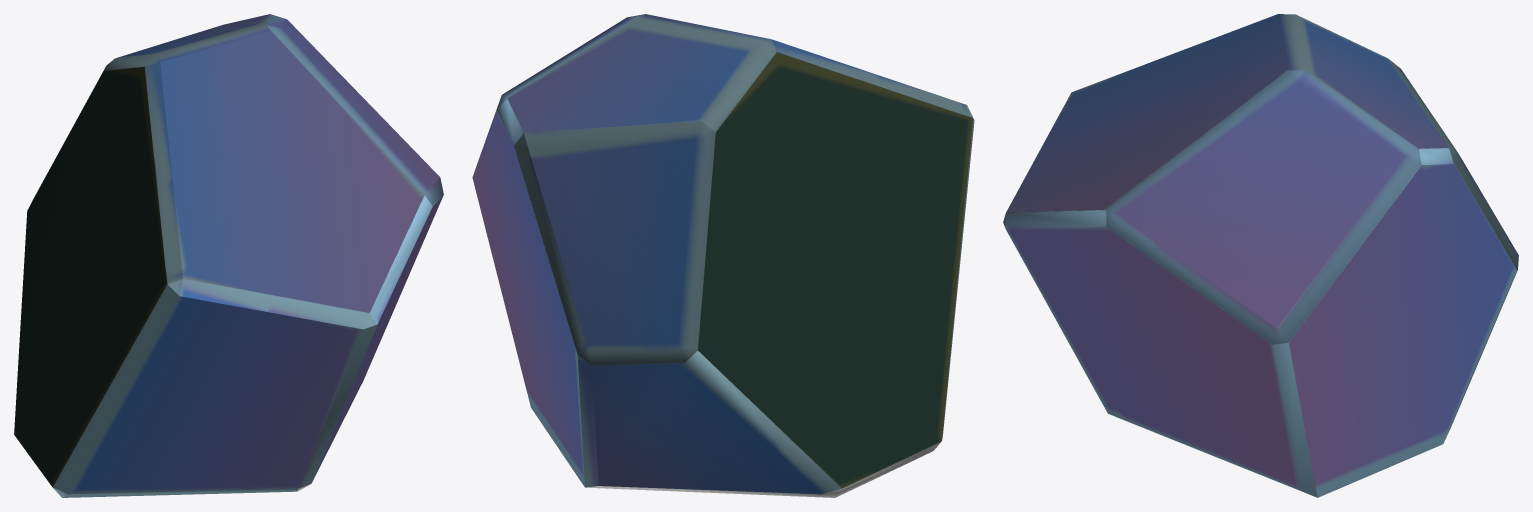
The picture shows the model from 3 angles, left to right: view 1: azimuth 30°, elevation 25°; view 2: azimuth 150°, elevation 25°; view 3: azimuth 270°, elevation 25°; orthographic projection. The views are drawn at different scales.
Parts seen in each view (by area): view 1: Sphere; view 2: Sphere; view 3: Sphere.
Boxes of the visible parts, x1,y1,x2,y2 form: Sphere: (14, 14, 443, 497); Sphere: (472, 14, 974, 497); Sphere: (1003, 14, 1518, 497).
Bounding box in the file's own units: 157 × 141 × 171.
1 material, 1 textured.
